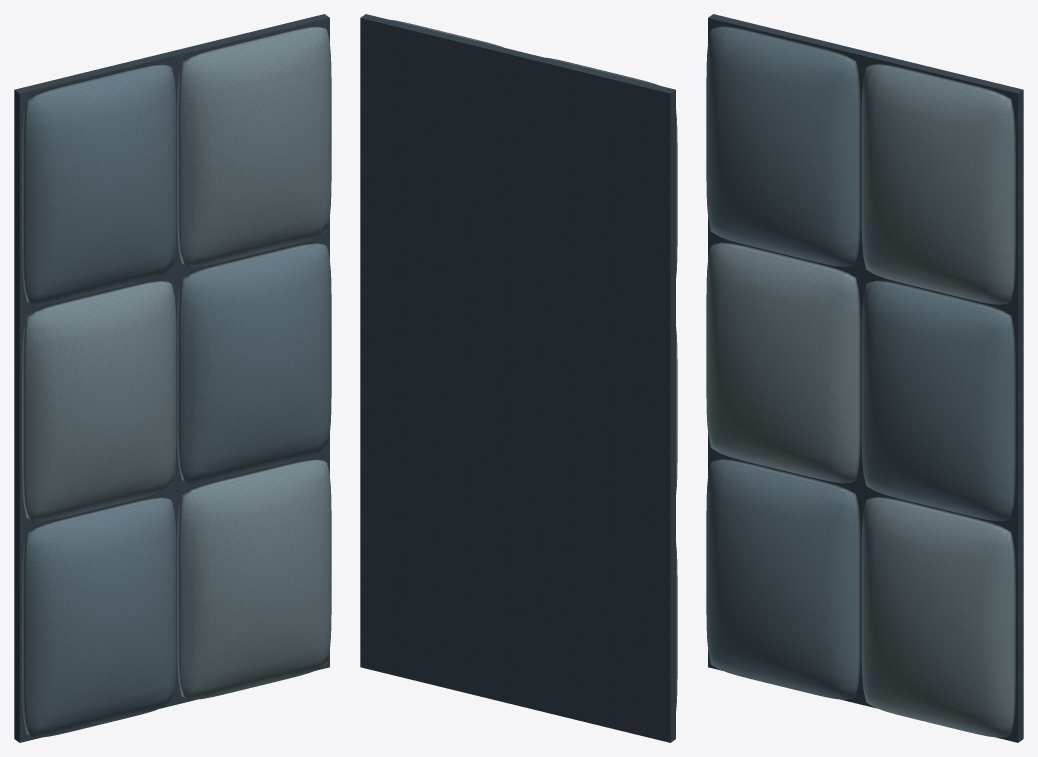
3 renders of one model, left to right at view 1: azimuth 30°, elevation 25°; view 2: azimuth 150°, elevation 25°; view 3: azimuth 330°, elevation 25°, orthographic.
Visible parts, largest first — view 1: padded-cell-0-1, padded-cell-2-1, padded-cell-2-0, padded-cell-1-1, padded-cell-0-0, padded-cell-1-0, seam-backing; view 2: seam-backing; view 3: padded-cell-0-0, padded-cell-2-0, padded-cell-2-1, padded-cell-1-0, padded-cell-0-1, padded-cell-1-1, seam-backing.
Part boxes in pixels (x1,y1,x2,y2): padded-cell-0-1: (177,459,331,699); padded-cell-2-1: (177,26,331,266); padded-cell-2-0: (22,64,176,304); padded-cell-1-1: (177,242,331,483); padded-cell-0-0: (22,496,176,737); padded-cell-1-0: (22,280,176,521); seam-backing: (14,14,329,742); seam-backing: (360,14,675,742); padded-cell-0-0: (706,459,860,699); padded-cell-2-0: (706,26,860,266); padded-cell-2-1: (861,64,1015,304); padded-cell-1-0: (706,242,860,483); padded-cell-0-1: (861,496,1015,737); padded-cell-1-1: (861,280,1015,521); seam-backing: (708,14,1023,742).
Size of the model in its own units: 0.6 by 1.2 by 0.08.
3 materials, 3 textured.
